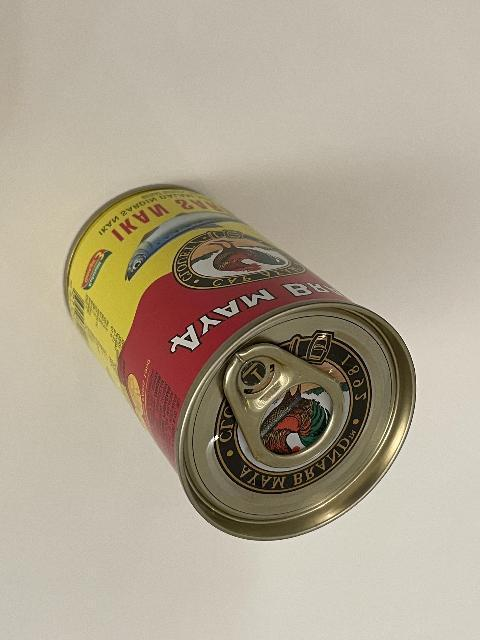foodcan: (60, 180, 418, 544)
